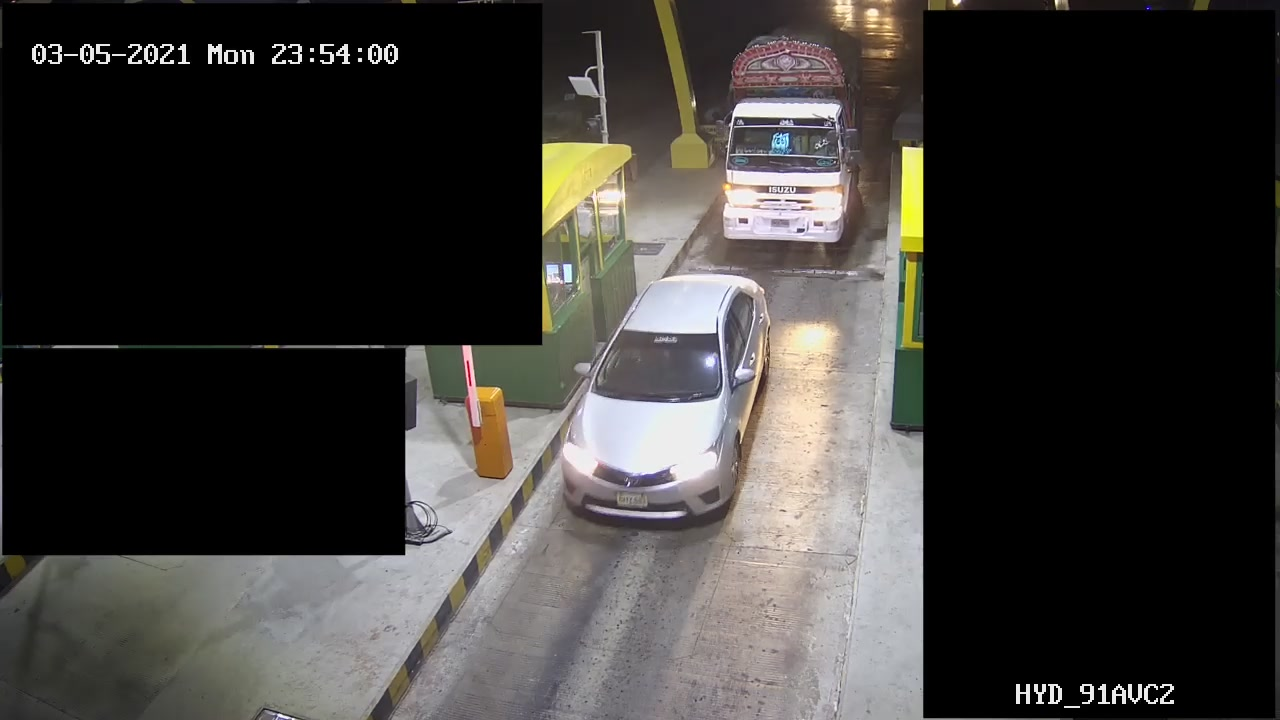F1: (558, 265, 774, 534)
